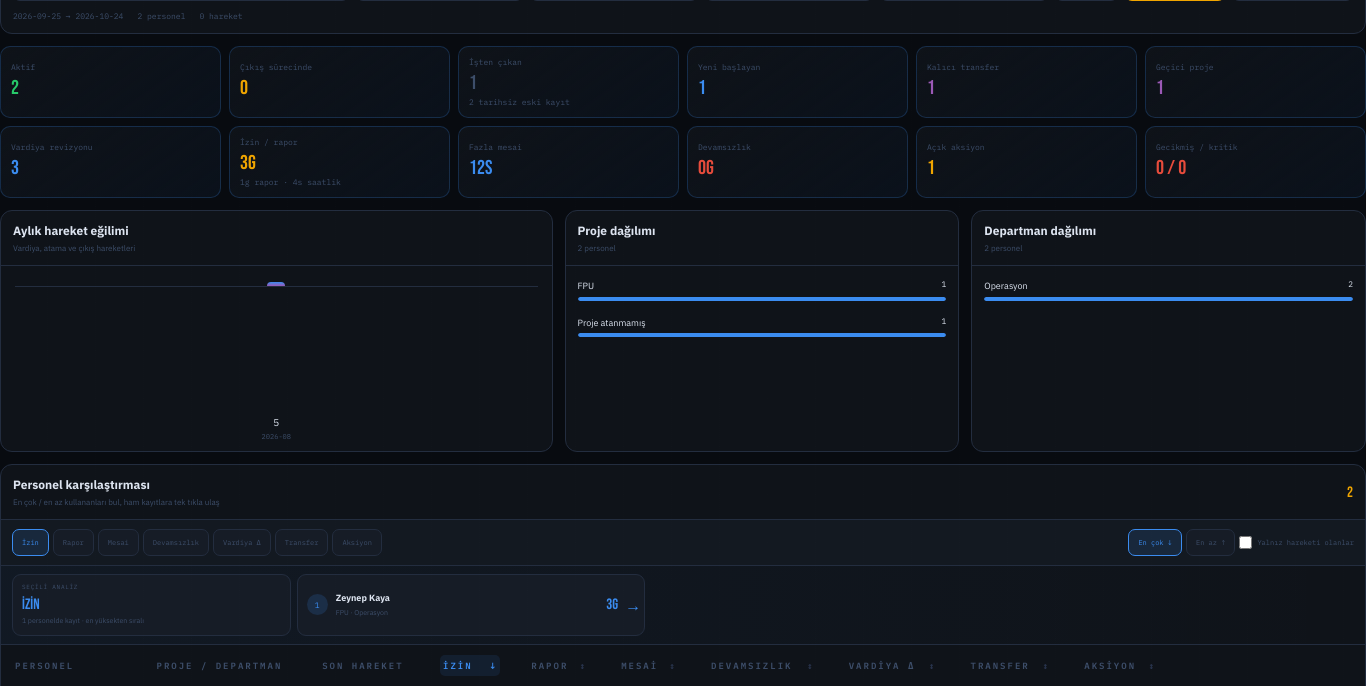
Personel Takip Merkezi ayrıntı paneli › sütun başlığından sıralar ve yalnız hareketi olan personeli gösterebilir
Step 1. Click the button with aria-label "Rapor sütununu en çoğa sırala" → (559, 665), box [528,654,590,676]
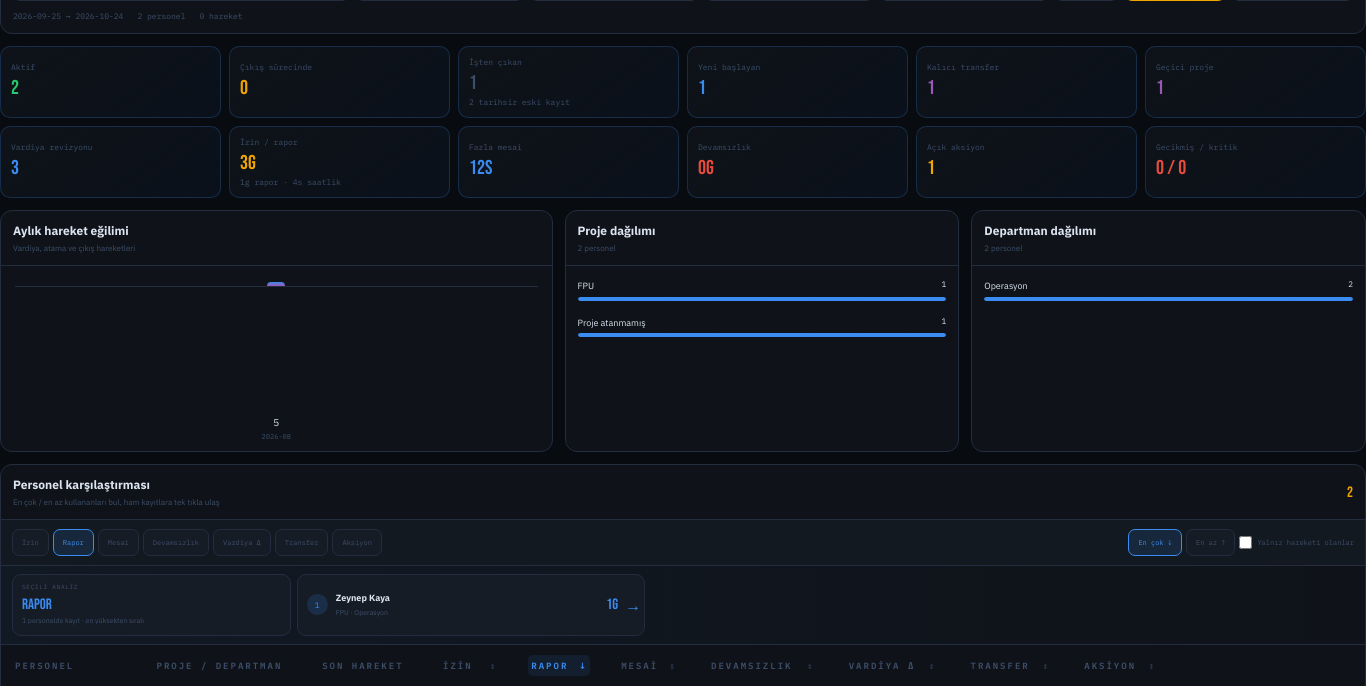
Step 2. Click the checkbox labelled "Yalnız hareketi olanlar" → (1246, 542), box [1239,536,1252,549]
(page scrolled)
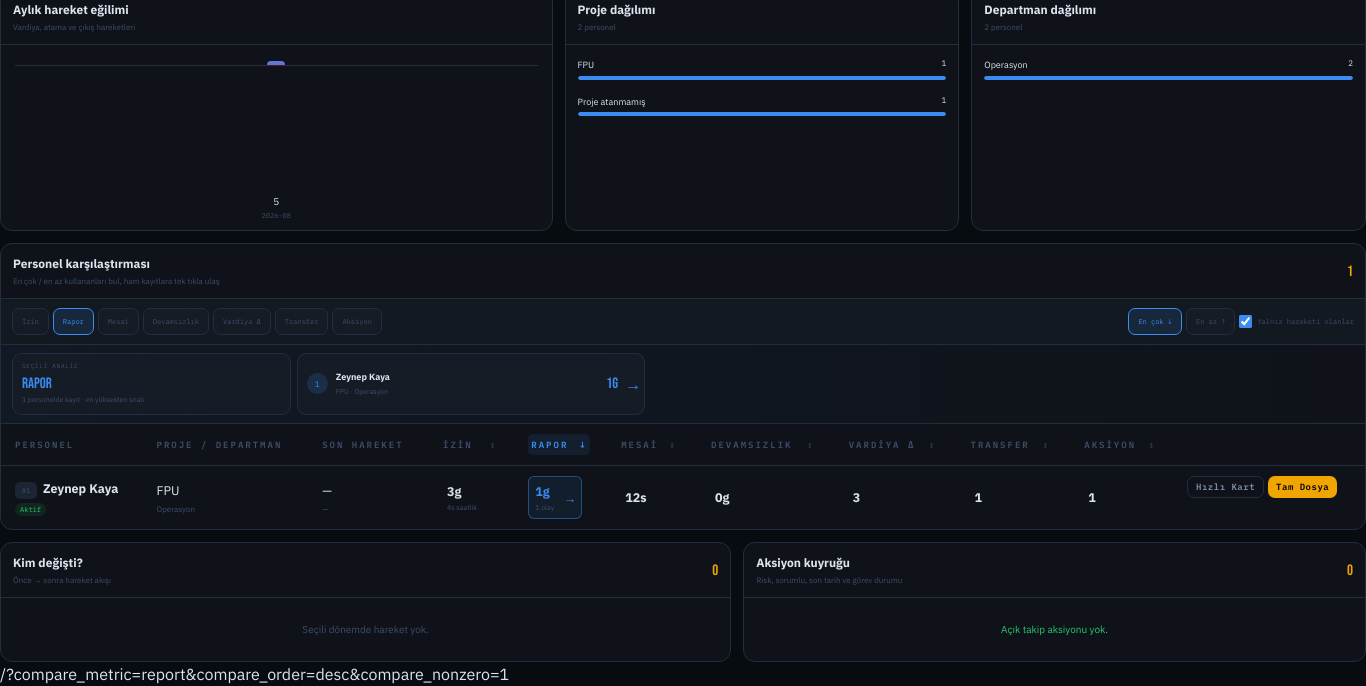
Expected: the row "Zeynep Kaya" is shown, [1,466,1365,529]
Result: the text named "geçerli adres" shows "compare_nonzero=1" at [6,664,509,684]
